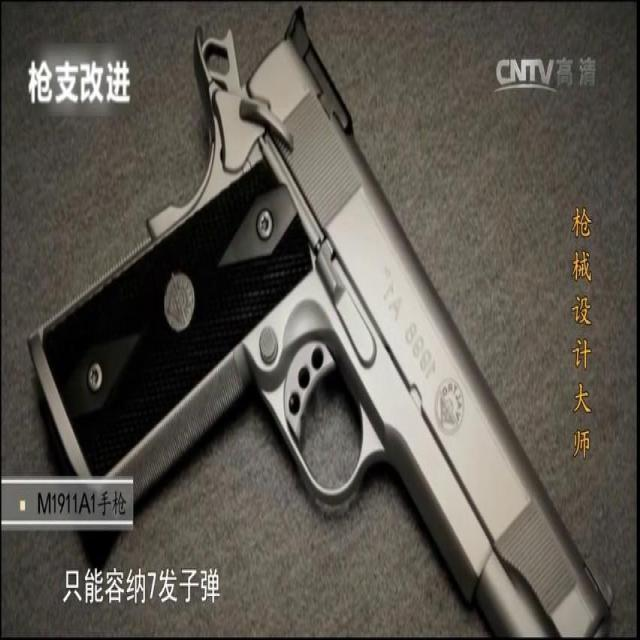rifle: (22, 5, 613, 638)
